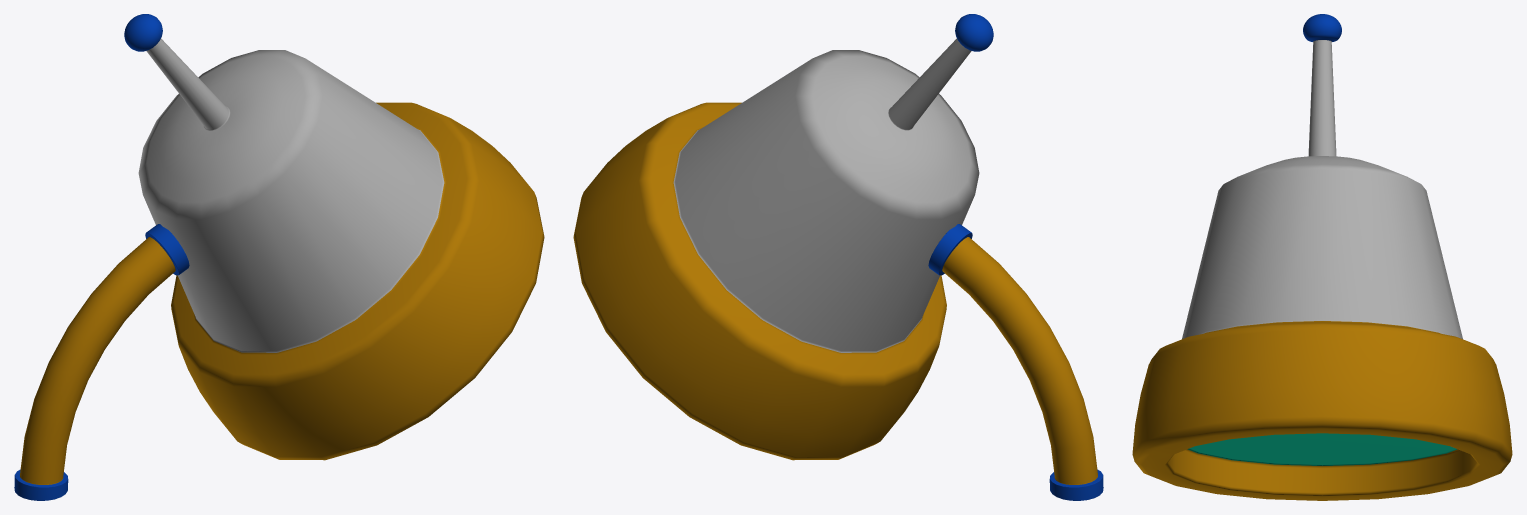
File: spotlight.fbx
3 renders of one model, left to right at view 1: azimuth 30°, elevation 25°; view 2: azimuth 150°, elevation 25°; view 3: azimuth 270°, elevation 25°, orthographic. The views are drawn at different scales.
Parts seen in each view (by area): view 1: spotlight_top01, spotlight_handle01; view 2: spotlight_top01, spotlight_handle01; view 3: spotlight_top01.
Part boxes in pixels (box(x1,y1,x2,y2)): spotlight_top01: box(124, 14, 544, 460); spotlight_handle01: box(14, 224, 189, 500); spotlight_top01: box(573, 14, 993, 460); spotlight_handle01: box(928, 224, 1103, 500); spotlight_top01: box(1132, 14, 1512, 500).
Size of the model in its own units: 5.86 by 5.11 by 4.02.
